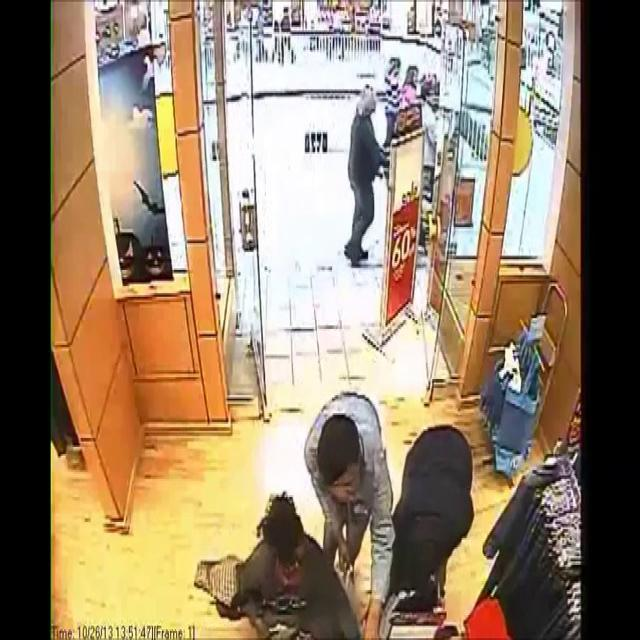normal: (291, 376, 389, 528), (340, 71, 390, 282)
shoplifting: (364, 418, 477, 640), (227, 476, 333, 640)
